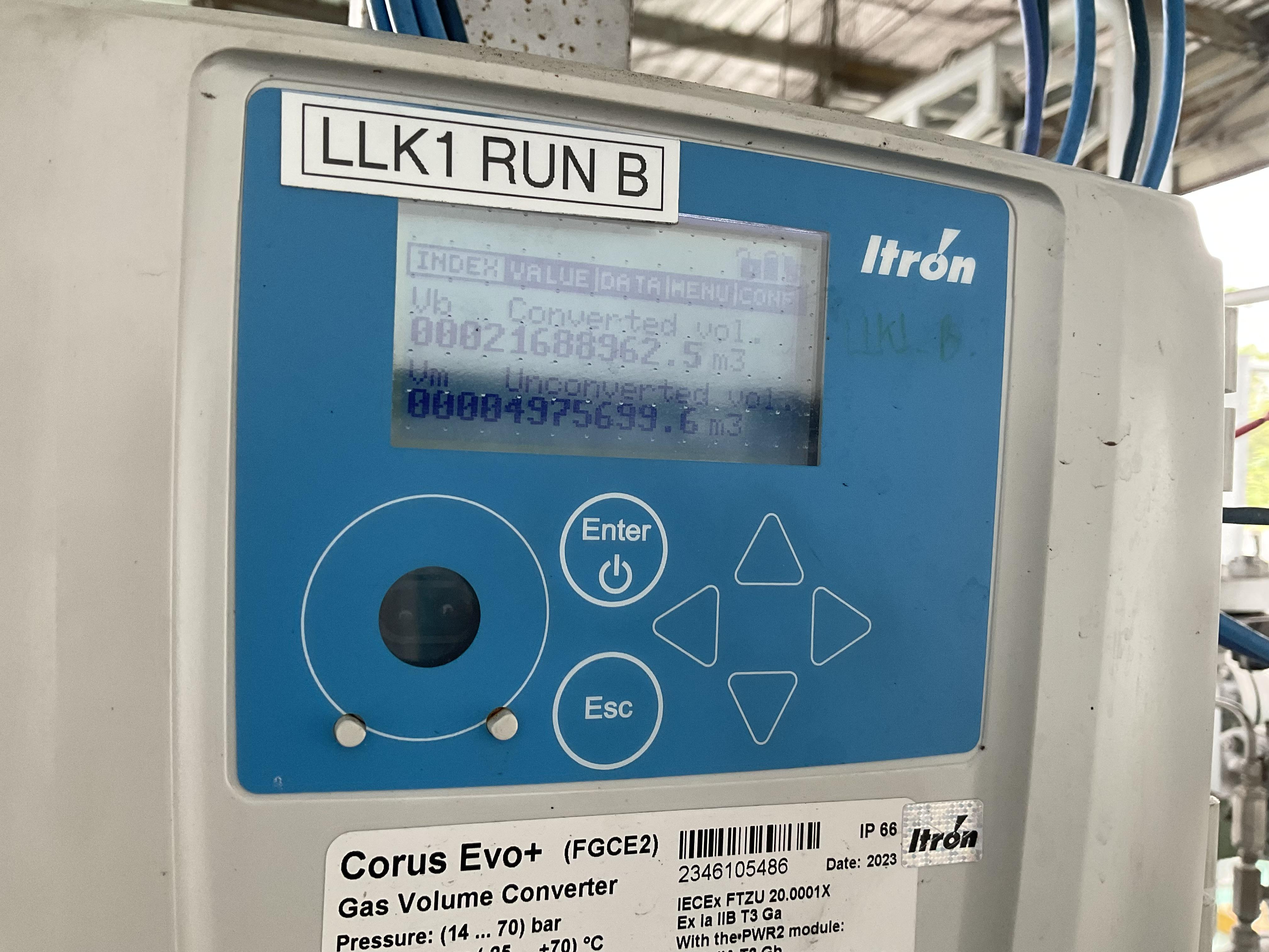digital_screen: (386, 182, 833, 468)
